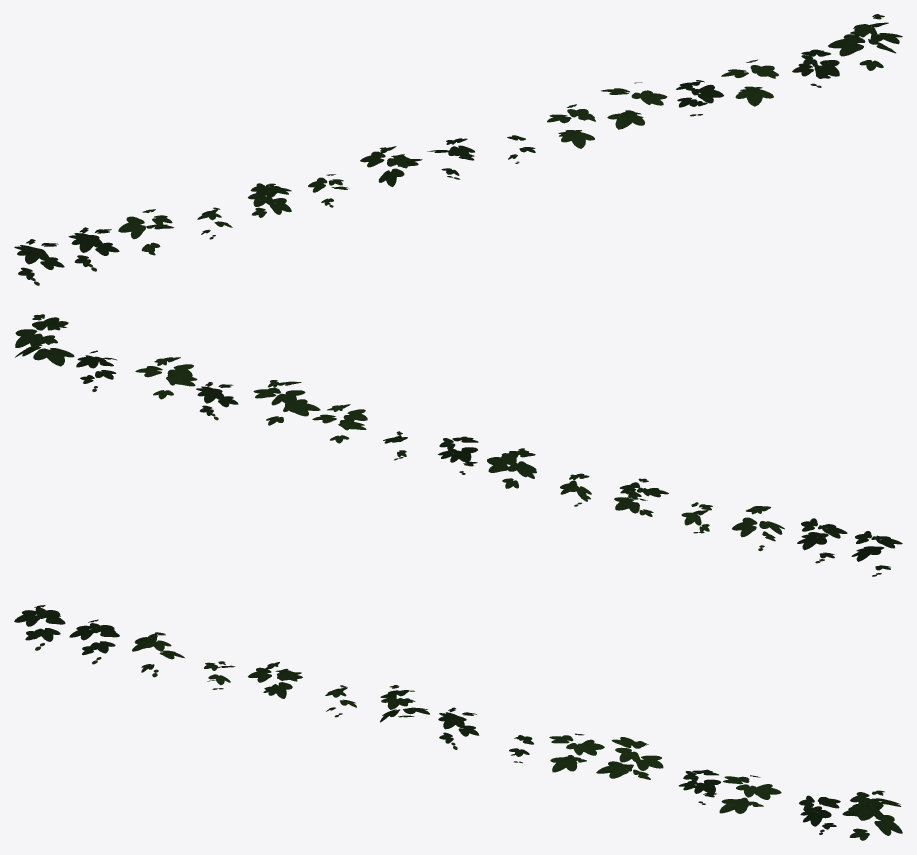
File: ROW_05_SEG4_foliage.dae
The picture shows the model from 3 angles, top to bottom: view 1: azimuth 30°, elevation 25°; view 2: azimuth 150°, elevation 25°; view 3: azimuth 330°, elevation 25°; orthographic projection.
Parts seen in each view (by area): view 1: ROW_05_SEG4_foliage; view 2: ROW_05_SEG4_foliage; view 3: ROW_05_SEG4_foliage.
Part boxes in pixels (x1,y1,x2,y2): ROW_05_SEG4_foliage: [14, 14, 902, 285]; ROW_05_SEG4_foliage: [15, 314, 902, 576]; ROW_05_SEG4_foliage: [14, 605, 902, 840].
Size of the model in its own units: 4.45 by 0.316 by 0.2807.
